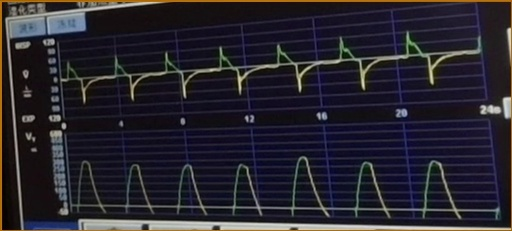Accumulation Flow: (64, 31, 473, 104)
Volume: (73, 152, 486, 223)
